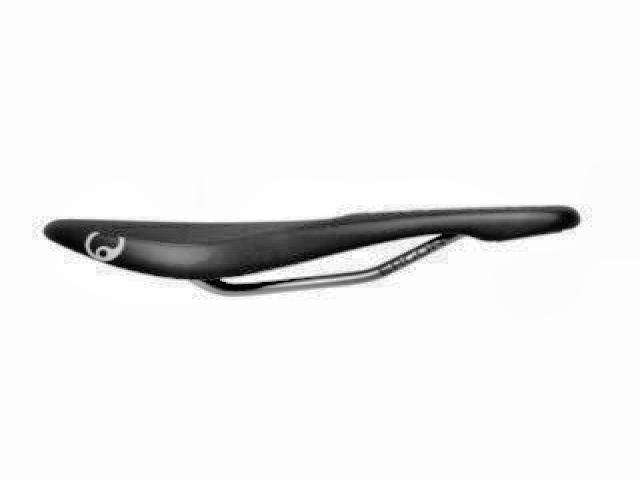saddle: (41, 200, 586, 300)
